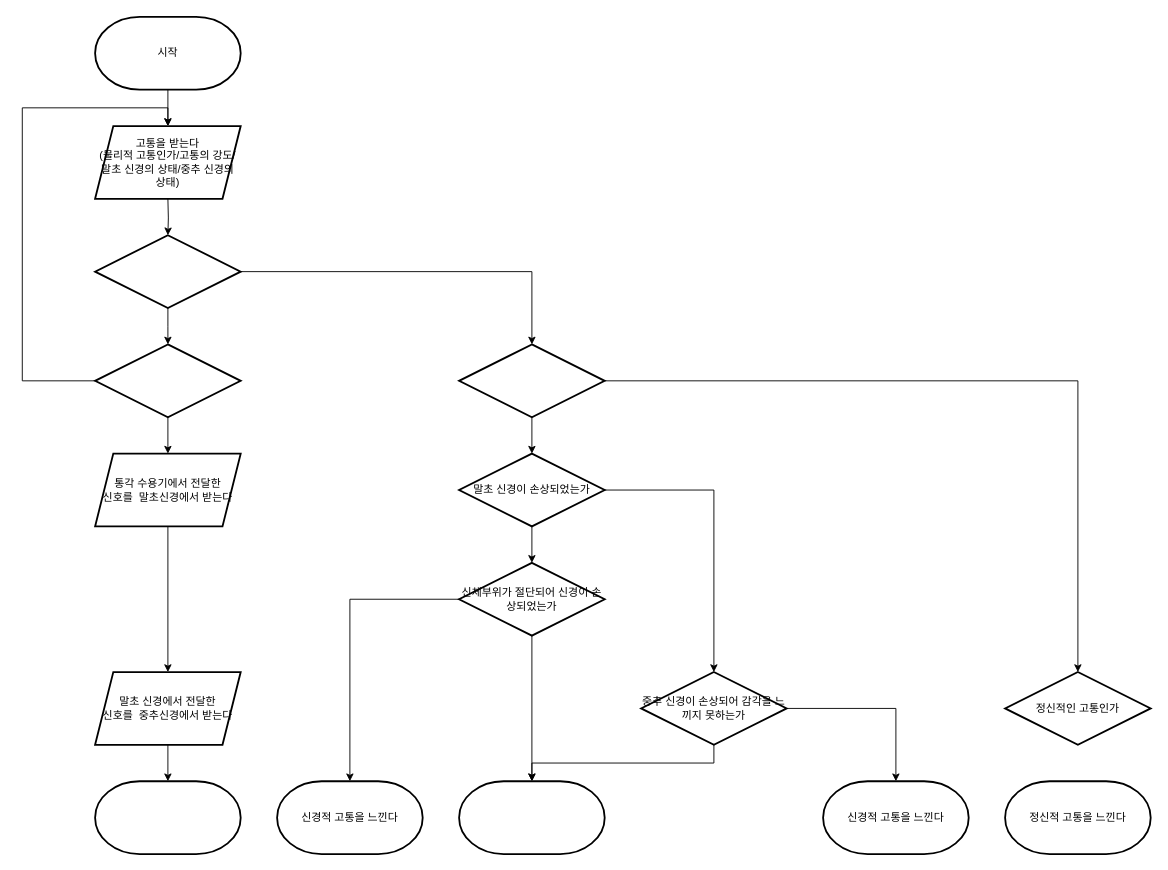
Some shapes in this 1168 by 870 pixel diagram are drawn without their labels. The box of each missing label's shape, as (x1, y1, x2, y2) in pixels:
감각적 고통을 느낀다: (94, 780, 241, 854)
물리적인 통증으로부터 발생한 고통인가: (94, 234, 241, 308)
신경계에 손상이 있는가: (458, 343, 605, 418)
역치 이상의 자극인가: (94, 343, 241, 418)
환상통을 느낀다: (458, 780, 605, 854)
